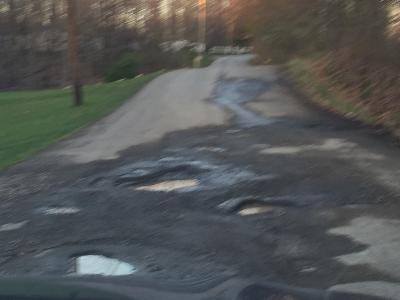pothole: (119, 163, 211, 193), (67, 247, 141, 278), (235, 282, 319, 299), (229, 197, 292, 219), (41, 202, 81, 214)
